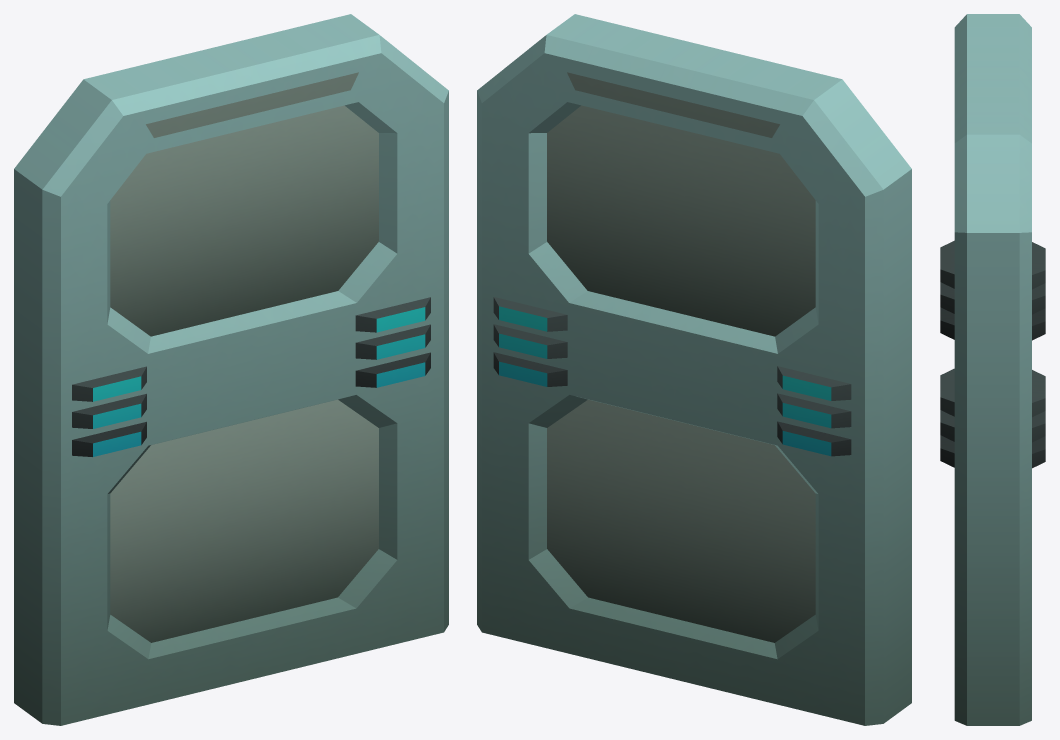
File: door_001.fbx
3 renders of one model, left to right at view 1: azimuth 30°, elevation 25°; view 2: azimuth 150°, elevation 25°; view 3: azimuth 270°, elevation 25°, orthographic. The views are drawn at different scales.
Visible parts, largest first — view 1: door.001; view 2: door.001; view 3: door.001.
Boxes of the visible parts, box(x1,y1,x2,y2) form: door.001: box(14, 14, 448, 725); door.001: box(477, 14, 911, 725); door.001: box(940, 14, 1045, 725).
Bounding box in the file's own units: 226 × 322 × 54.87.
